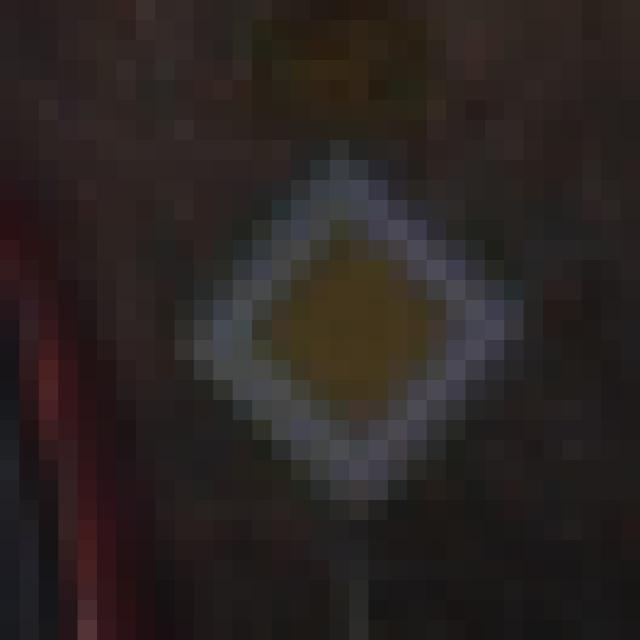Main Road: (117, 101, 544, 541)
